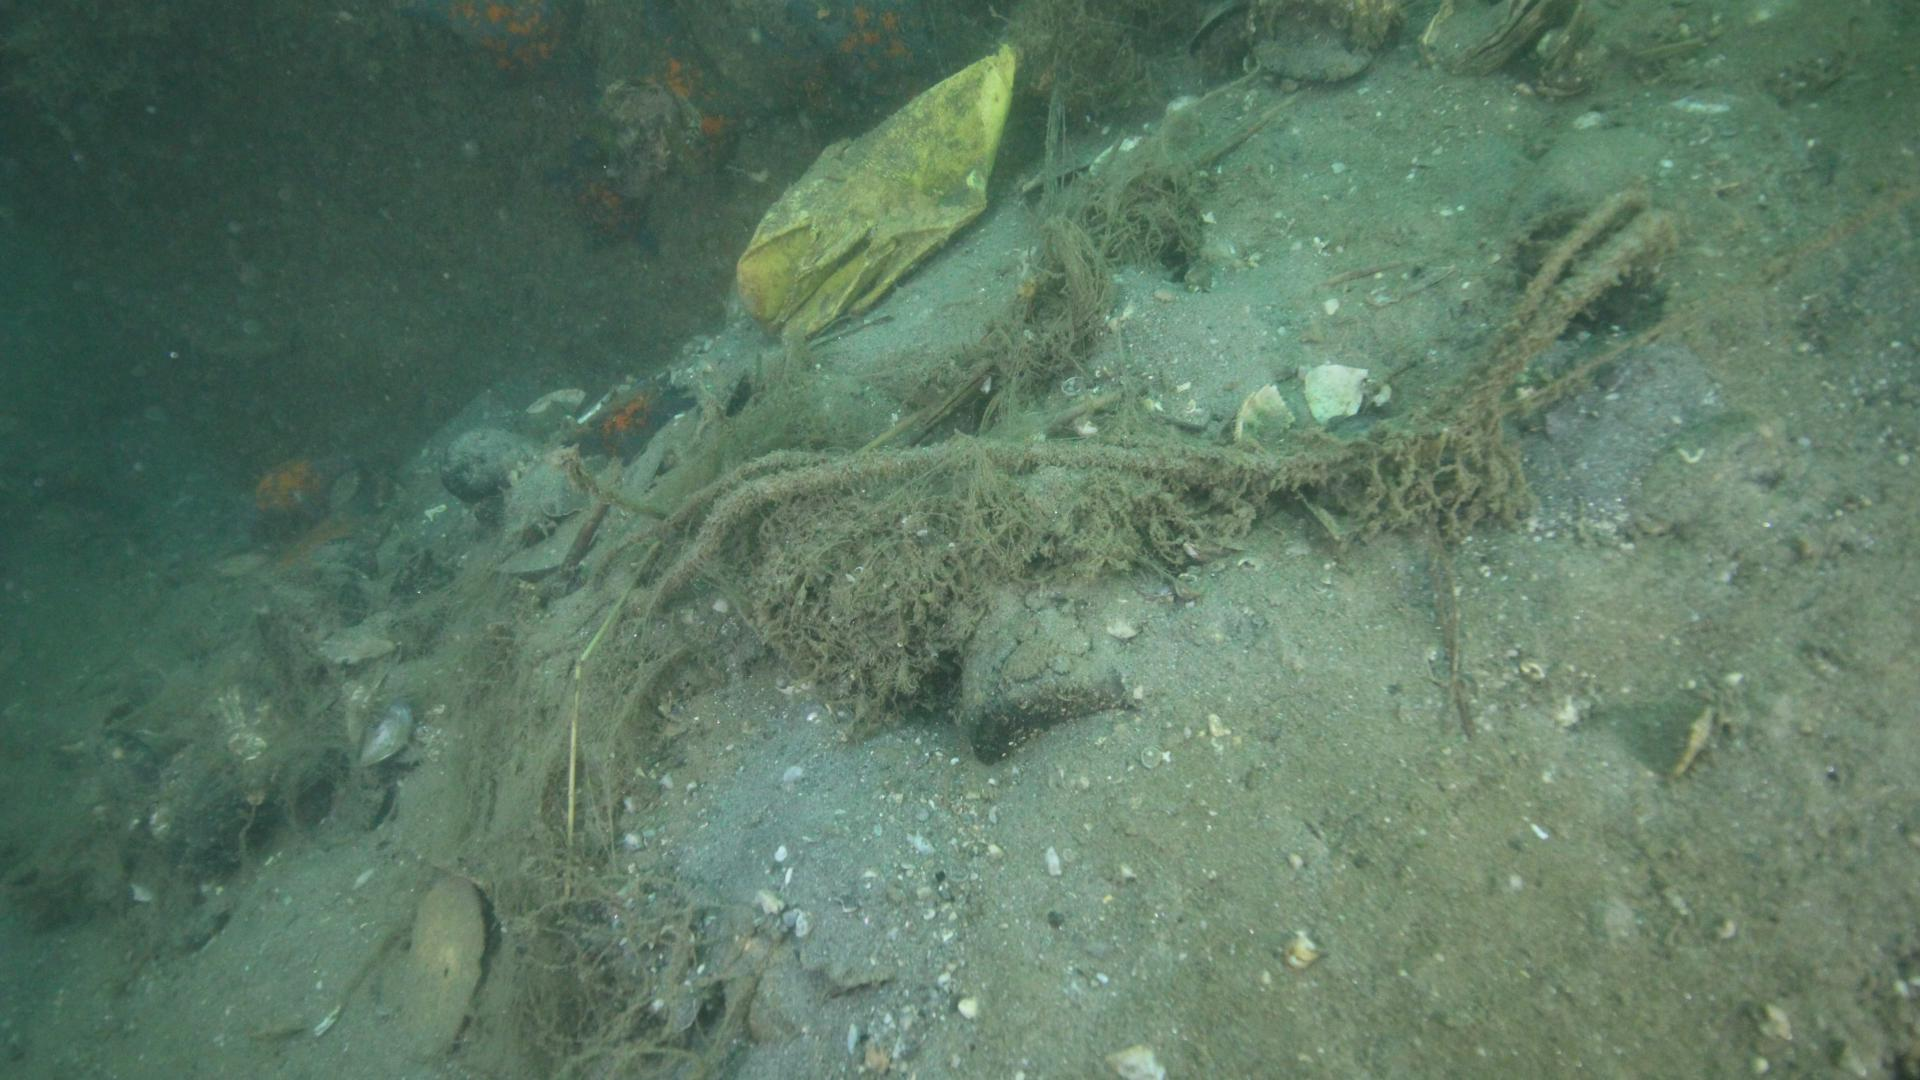bundle of ropes: (484, 181, 1691, 1073)
